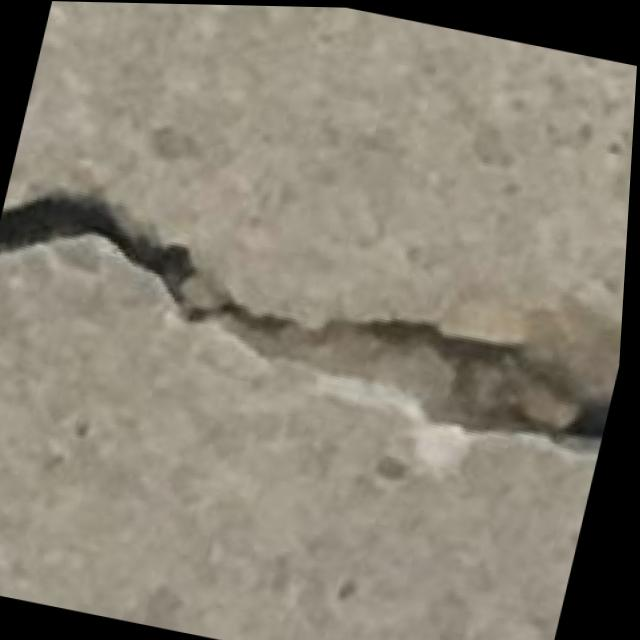Crack: (0, 169, 632, 479)
